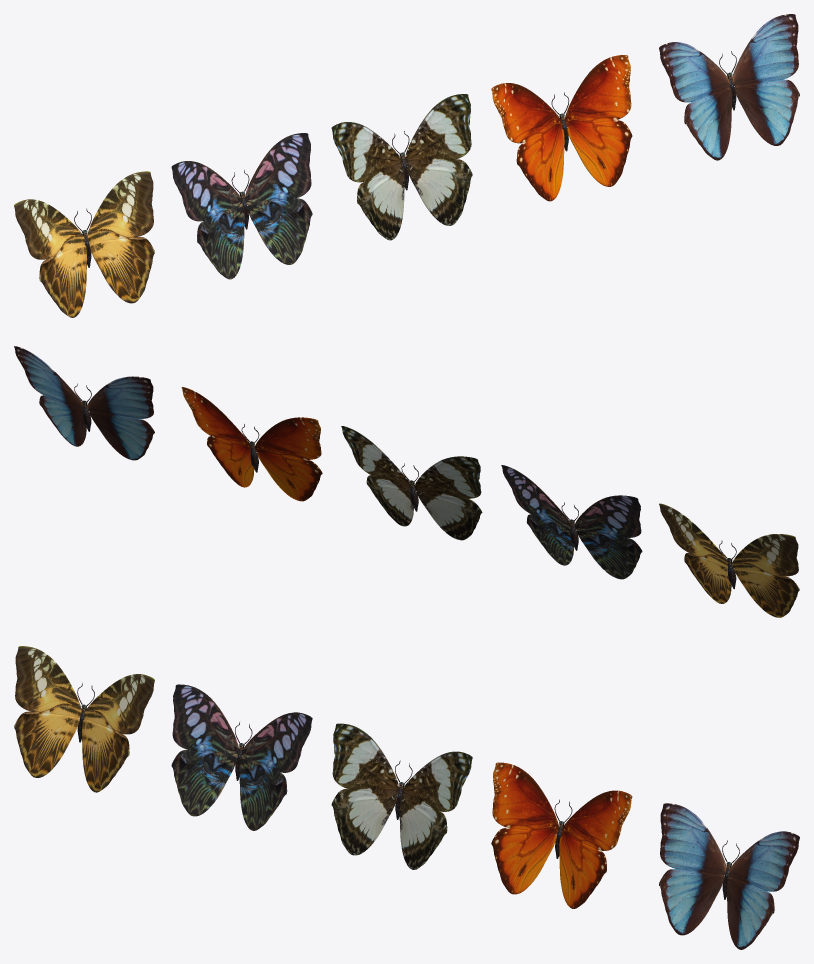
File: butterfly.fbx
The picture shows the model from 3 angles, top to bottom: view 1: azimuth 30°, elevation 25°; view 2: azimuth 150°, elevation 25°; view 3: azimuth 330°, elevation 25°; orthographic projection.
Parts seen in each view (by area): view 1: Plane.004, Plane.001, Plane.003, Plane, Plane.002; view 2: Plane.002, Plane.001, Plane.003, Plane.004, Plane; view 3: Plane, Plane.003, Plane.002, Plane.001, Plane.004.
Boxes of the visible parts, x1=… form: Plane.004: x1=14, y1=171, x2=154, y2=317; Plane.001: x1=491, y1=55, x2=632, y2=201; Plane.003: x1=171, y1=133, x2=312, y2=279; Plane: x1=659, y1=14, x2=799, y2=160; Plane.002: x1=331, y1=94, x2=472, y2=240; Plane.002: x1=341, y1=426, x2=482, y2=540; Plane.001: x1=181, y1=387, x2=322, y2=501; Plane.003: x1=501, y1=465, x2=642, y2=579; Plane.004: x1=659, y1=503, x2=799, y2=617; Plane: x1=14, y1=346, x2=154, y2=460; Plane: x1=659, y1=803, x2=799, y2=949; Plane.003: x1=171, y1=684, x2=312, y2=830; Plane.002: x1=331, y1=723, x2=472, y2=869; Plane.001: x1=491, y1=762, x2=632, y2=908; Plane.004: x1=14, y1=646, x2=154, y2=792.
Bounding box in the file's own units: 2577 × 338 × 137.
